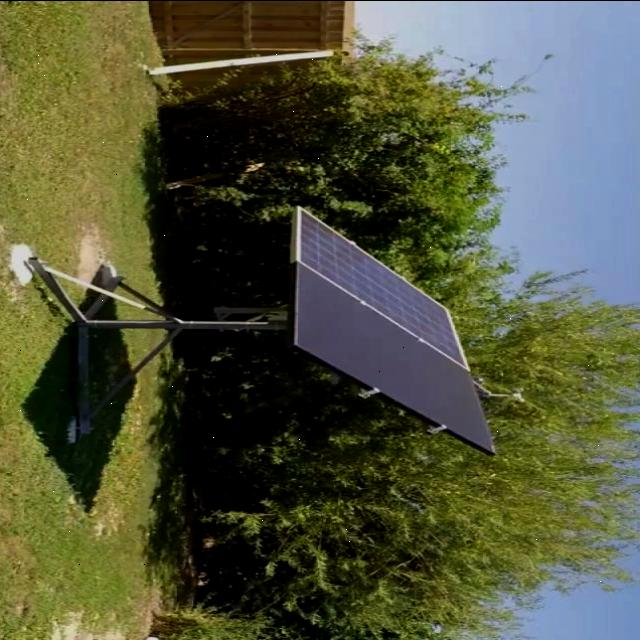Normal Solar Panel: (290, 262, 494, 452), (291, 208, 464, 362)
